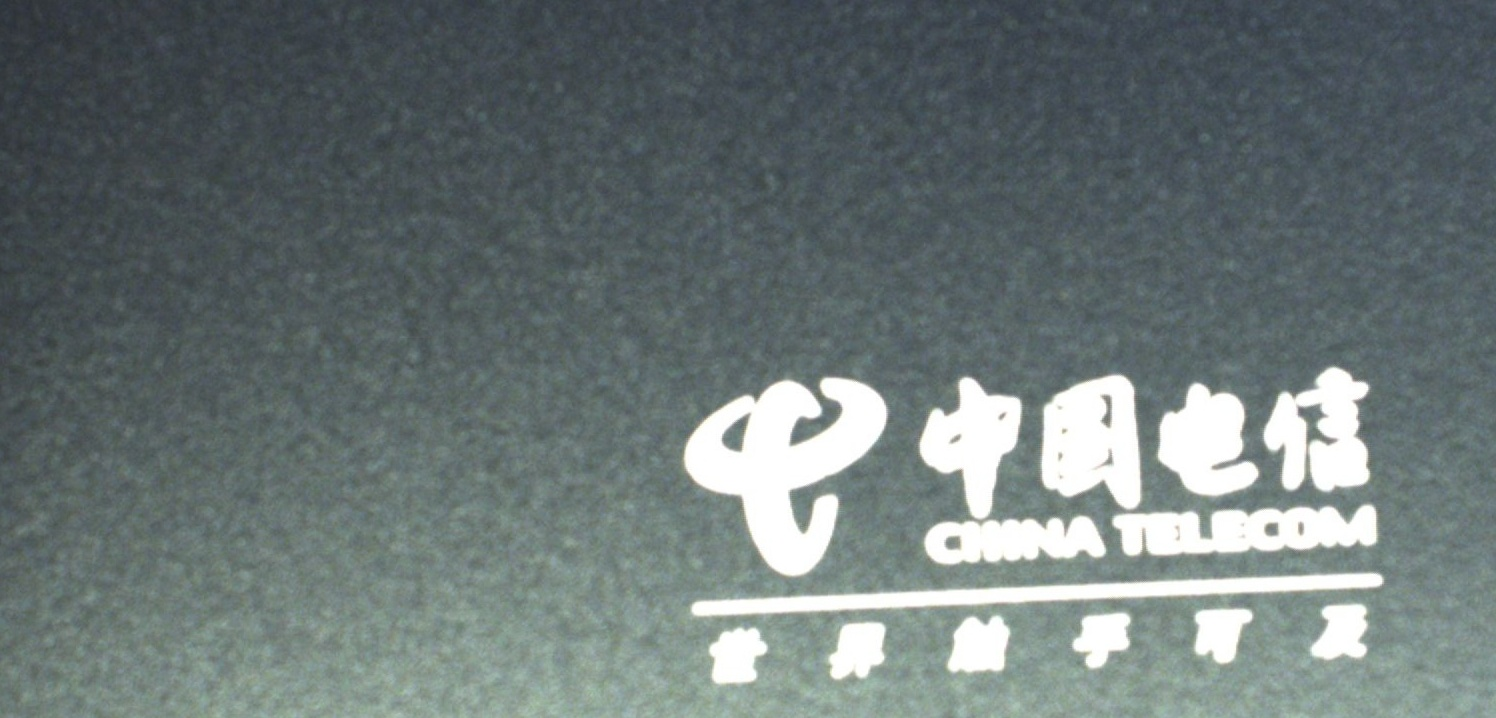AB_ChinaTelecom: (668, 357, 1383, 685)
